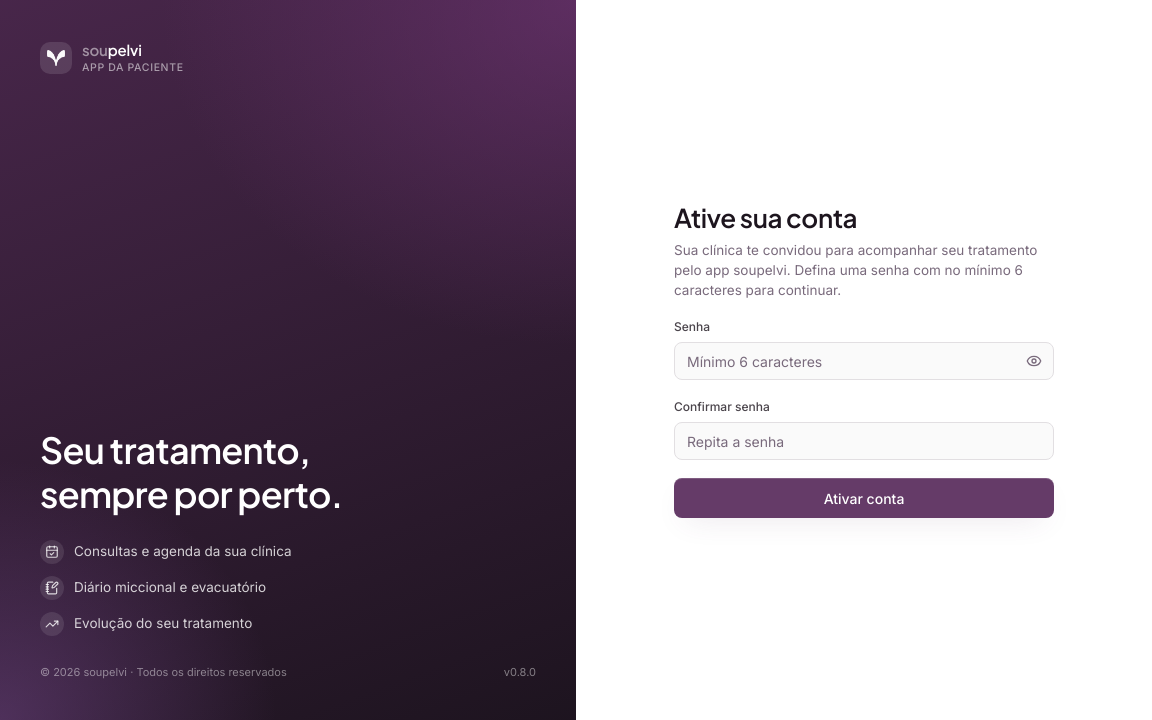
ActivatePatientAccount page › exibe erro se a senha tem menos de 6 caracteres
This screenshot has width=1152, height=720.
In the password field labelled "Senha": (864, 361) [674,342,1054,380], type "abc12"
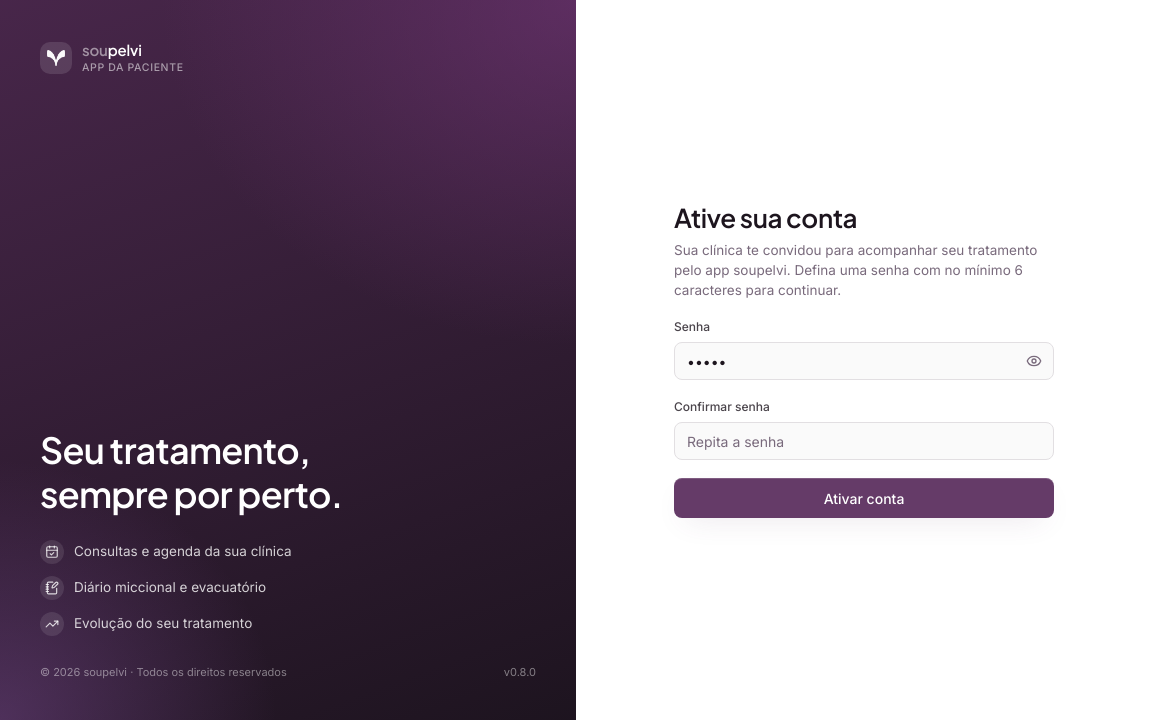
In the password field labelled "Confirmar senha": (864, 441) [674,422,1054,460], type "abc12"
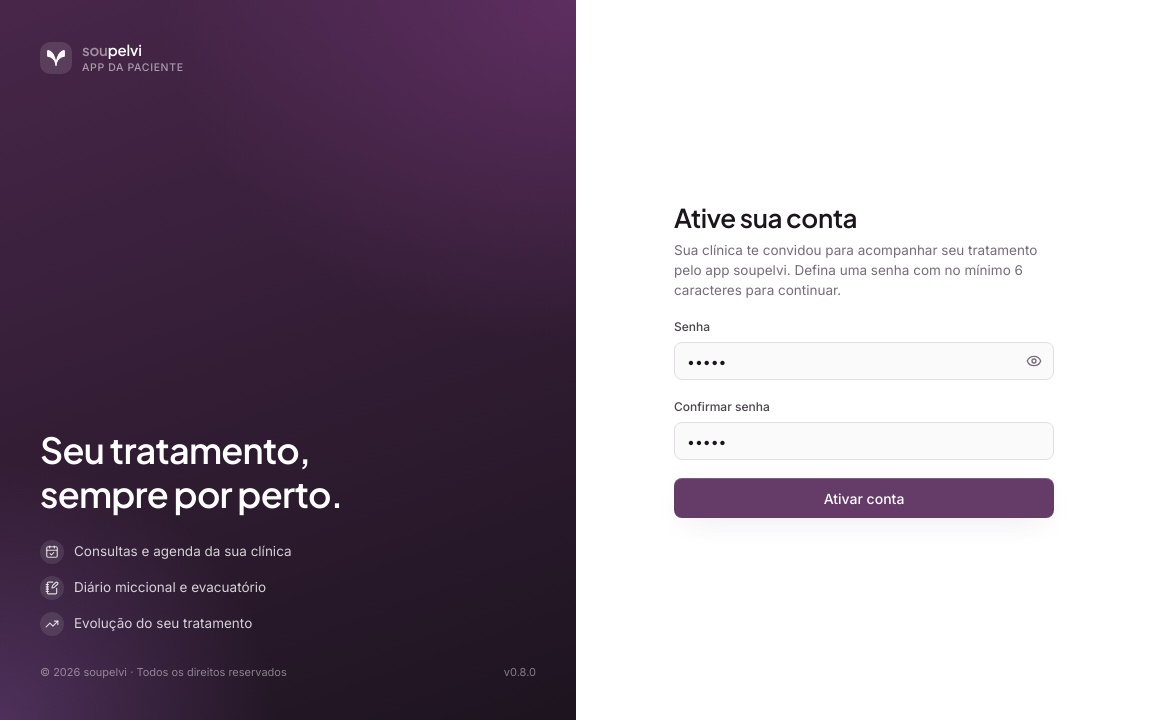
Click the button "Ativar conta": (864, 498) [674,478,1054,518]
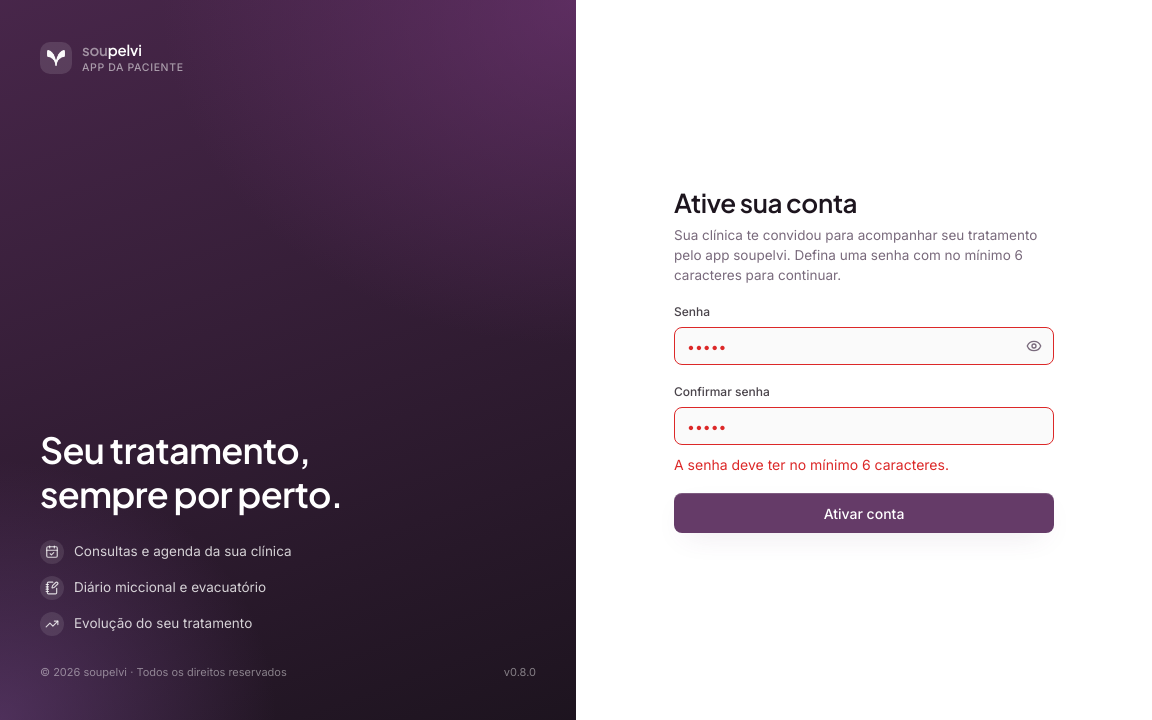
Check: the message shows "no mínimo 6 caracteres", box [674,456,949,473]
